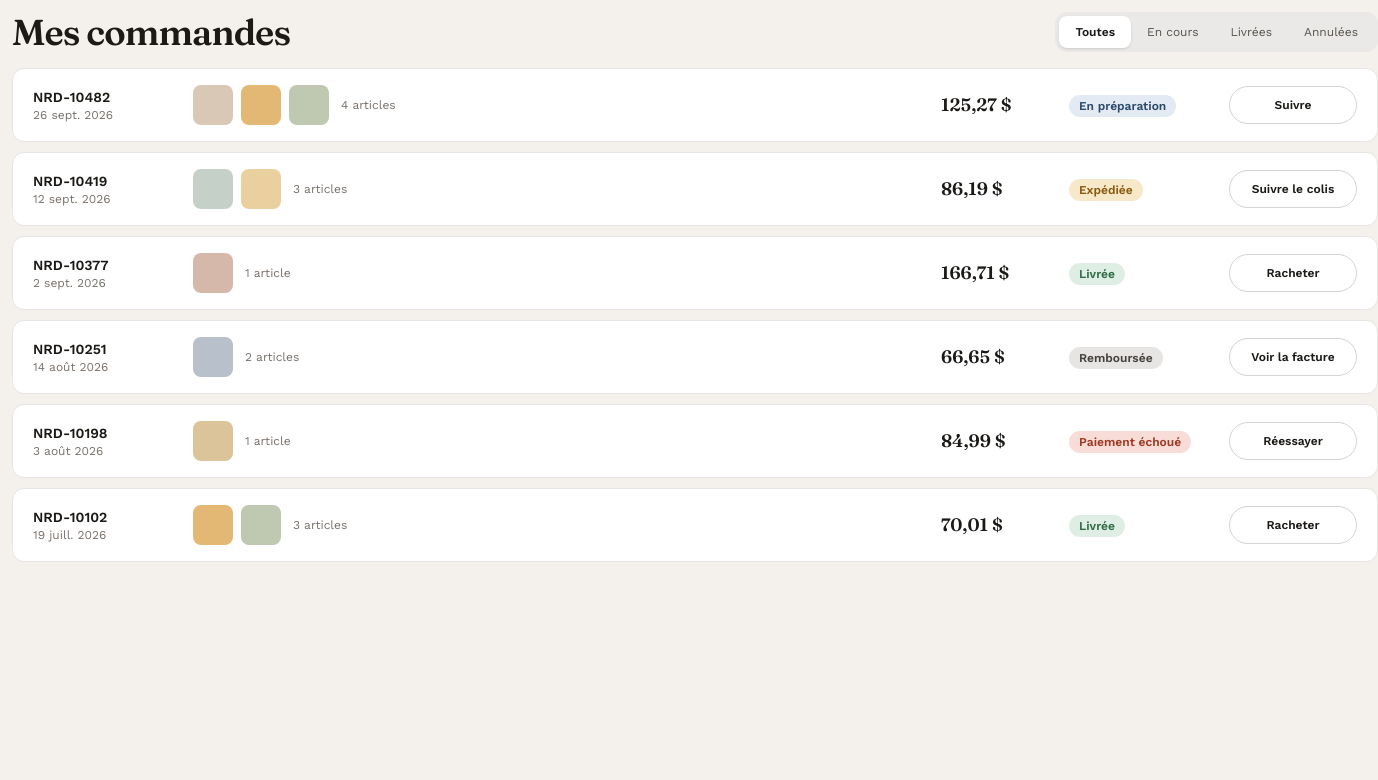
Test: CommandesPage › filters delivered orders
This screenshot has width=1378, height=780.
Step 1. Click the button "Livrées" → (1251, 32), box top-left (1214, 16), bottom-right (1288, 48)
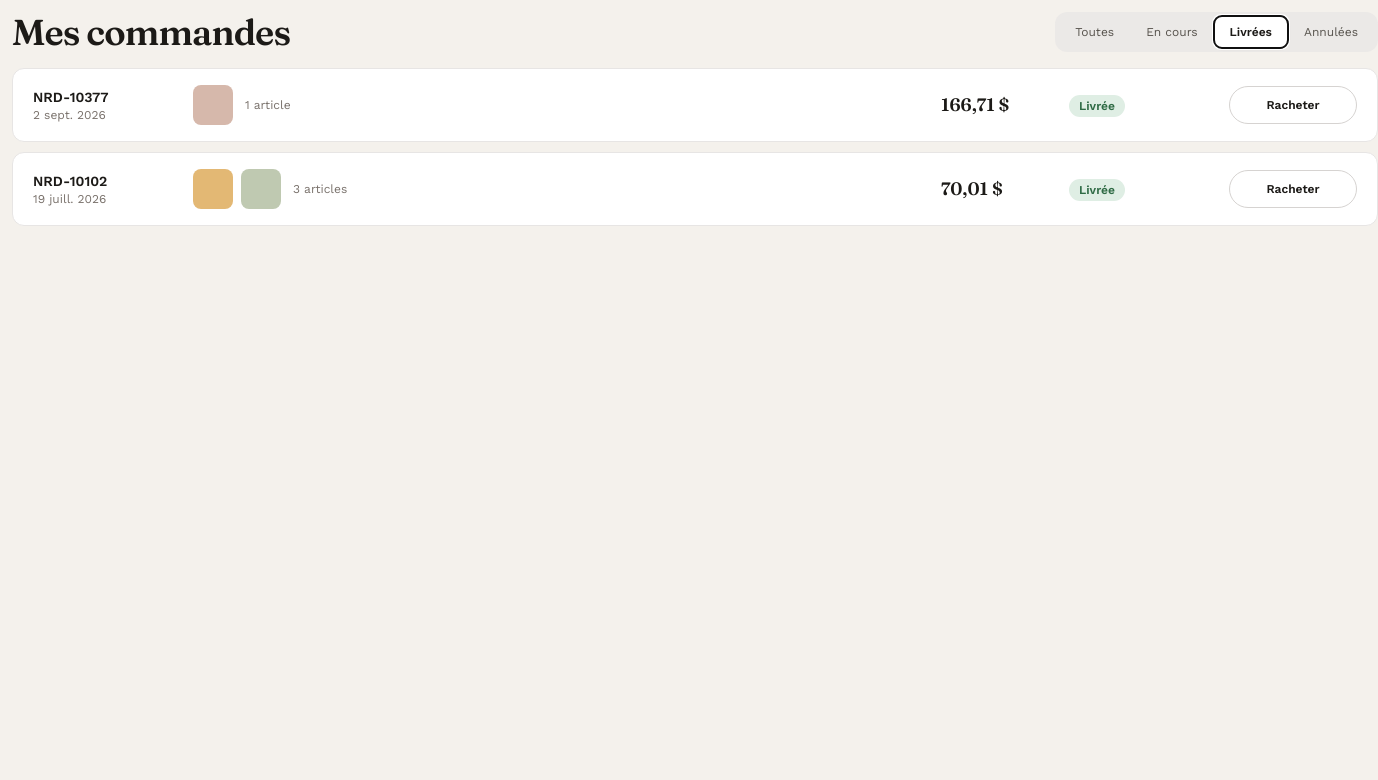
Check: the headings read "NRD-10377", "NRD-10102", in this order, box top-left (33, 89), bottom-right (109, 105); top-left (33, 173), bottom-right (107, 189)
